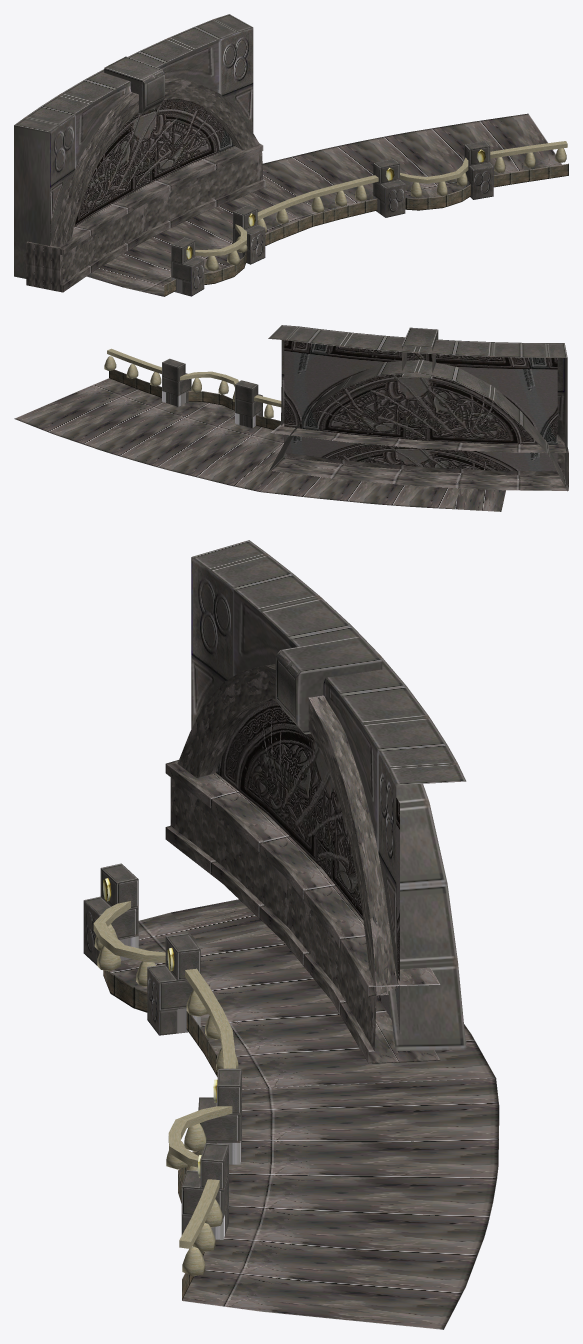
File: CH09_SMAUG_PLAYSURFACE_LAIR25.fbx
3 views of the same model, one above another, from view 1: azimuth 30°, elevation 25°; view 2: azimuth 150°, elevation 25°; view 3: azimuth 270°, elevation 25° (orthographic). The views are drawn at different scales.
Visible parts, largest first — view 1: CH09_SMAUG_PLAYSURFACE_LAIR25; view 2: CH09_SMAUG_PLAYSURFACE_LAIR25; view 3: CH09_SMAUG_PLAYSURFACE_LAIR25.
Boxes of the visible parts, box(x1,y1,x2,y2) form: CH09_SMAUG_PLAYSURFACE_LAIR25: box(14, 14, 568, 296); CH09_SMAUG_PLAYSURFACE_LAIR25: box(14, 325, 568, 511); CH09_SMAUG_PLAYSURFACE_LAIR25: box(83, 540, 499, 1329).
Bounding box in the file's own units: 300850 × 88189 × 107264.
Materials: 8 (8 with a texture image).
